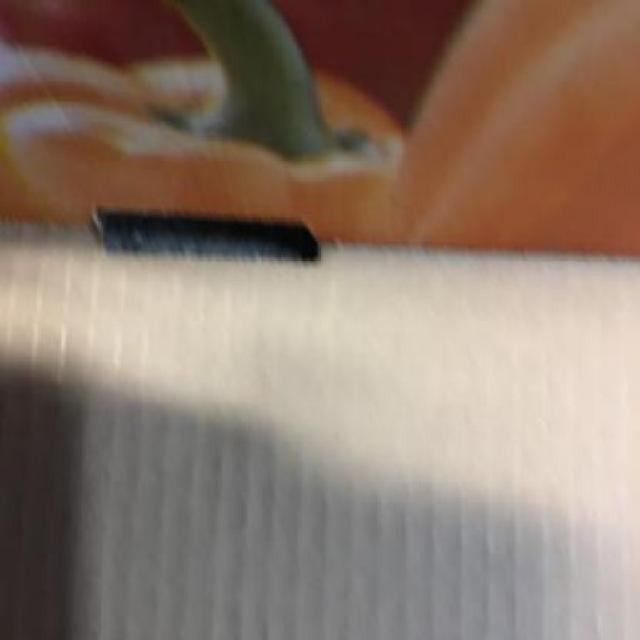CARDBOARD: (1, 221, 640, 638), (1, 0, 638, 258)
